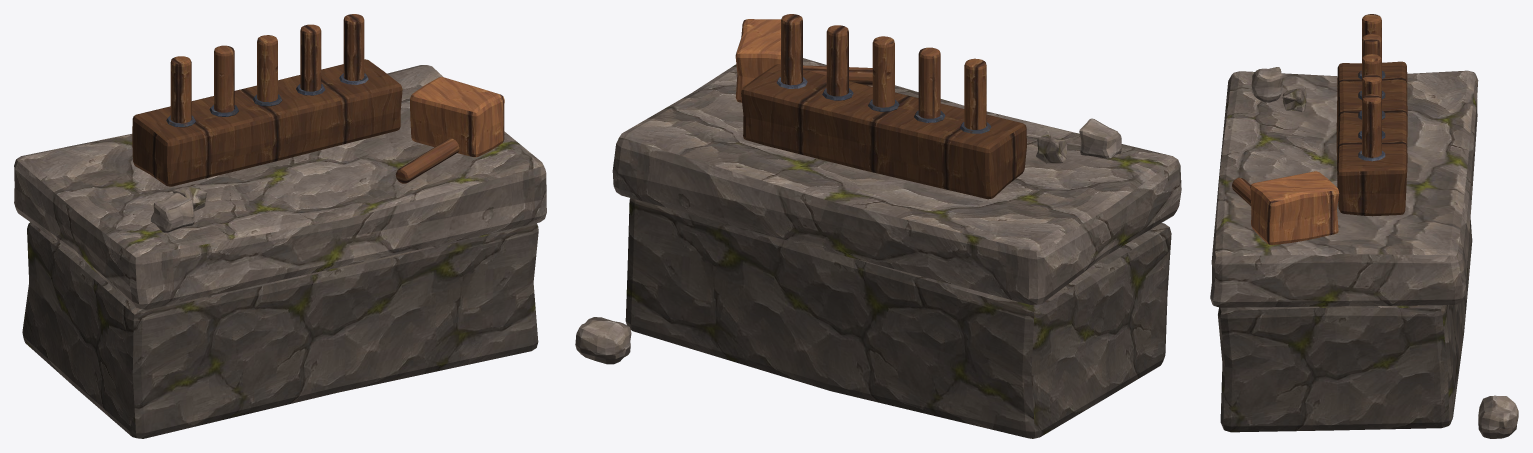
File: chisel_rack.glb
3 views of the same model, side by side, from view 1: azimuth 30°, elevation 25°; view 2: azimuth 150°, elevation 25°; view 3: azimuth 270°, elevation 25° (orthographic). The views are drawn at different scales.
Parts seen in each view (by area): view 1: model; view 2: model; view 3: model.
Part boxes in pixels (x1,y1,x2,y2): model: [14, 14, 546, 438]; model: [575, 14, 1181, 438]; model: [1210, 14, 1518, 438].
Bounding box in the file's own units: 1.09 × 0.7479 × 0.7163.
7 materials, 7 textured.
